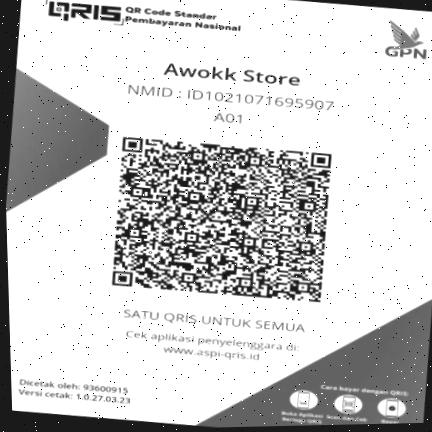Qris-Positioning: (6, 0, 432, 427)
